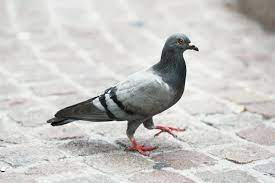Walking: (29, 26, 227, 158)
